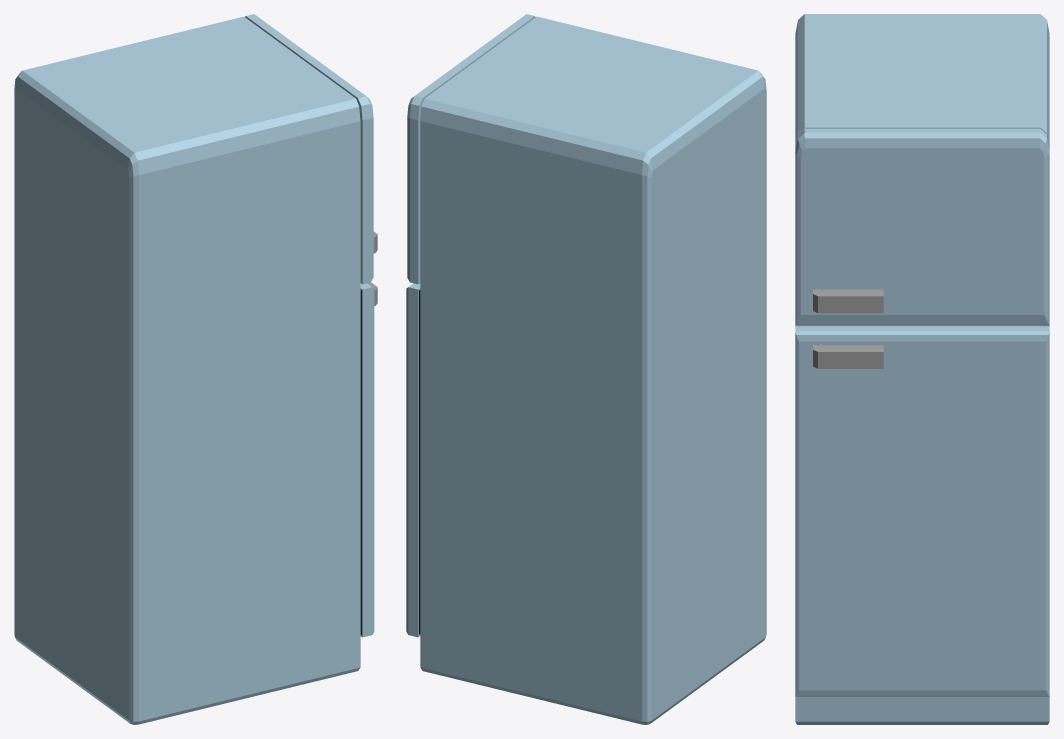
File: fridge.glb
3 views of the same model, side by side, from view 1: azimuth 30°, elevation 25°; view 2: azimuth 150°, elevation 25°; view 3: azimuth 270°, elevation 25° (orthographic). The views are drawn at different scales.
Parts seen in each view (by area): view 1: Fridge; view 2: Fridge; view 3: Fridge.
Boxes of the visible parts, left/top/right/bottom form: Fridge: left=14, top=14, right=377, bottom=724; Fridge: left=406, top=14, right=766, bottom=724; Fridge: left=795, top=14, right=1049, bottom=724.
Size of the model in its own units: 0.673 by 1.43 by 0.5512.
